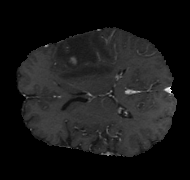Edema: (48, 31, 124, 88)
EnhancingTumors: (66, 38, 96, 73)
Necrosis: (66, 38, 97, 75)
